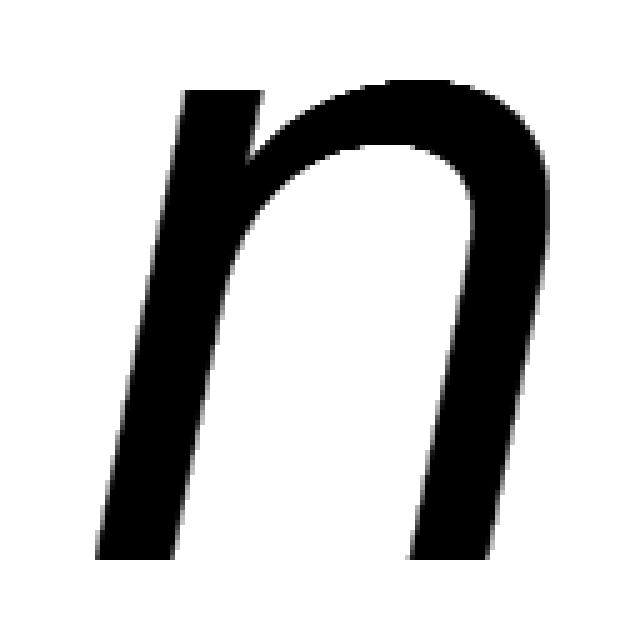N: (85, 70, 555, 570)
